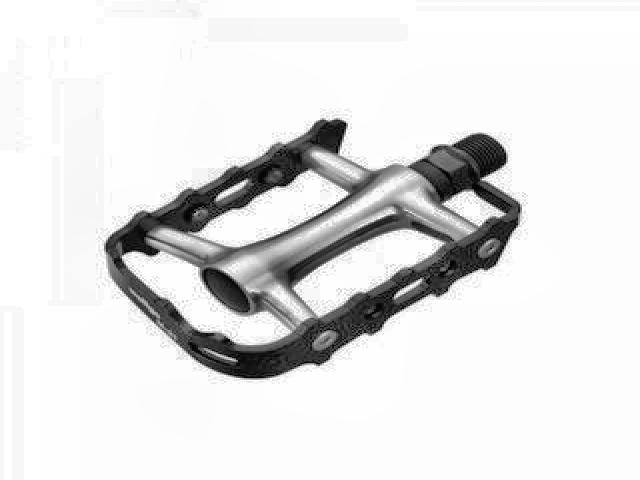pedal: (98, 114, 525, 386)
